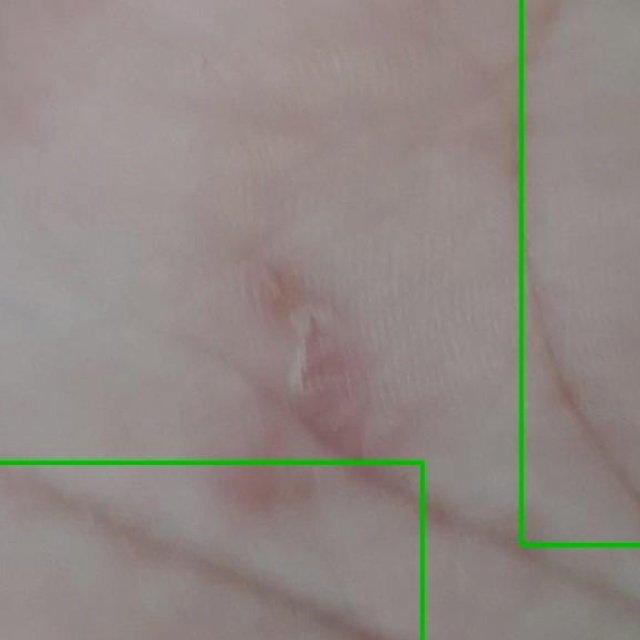Scabies: (0, 462, 422, 639), (521, 0, 639, 544)
